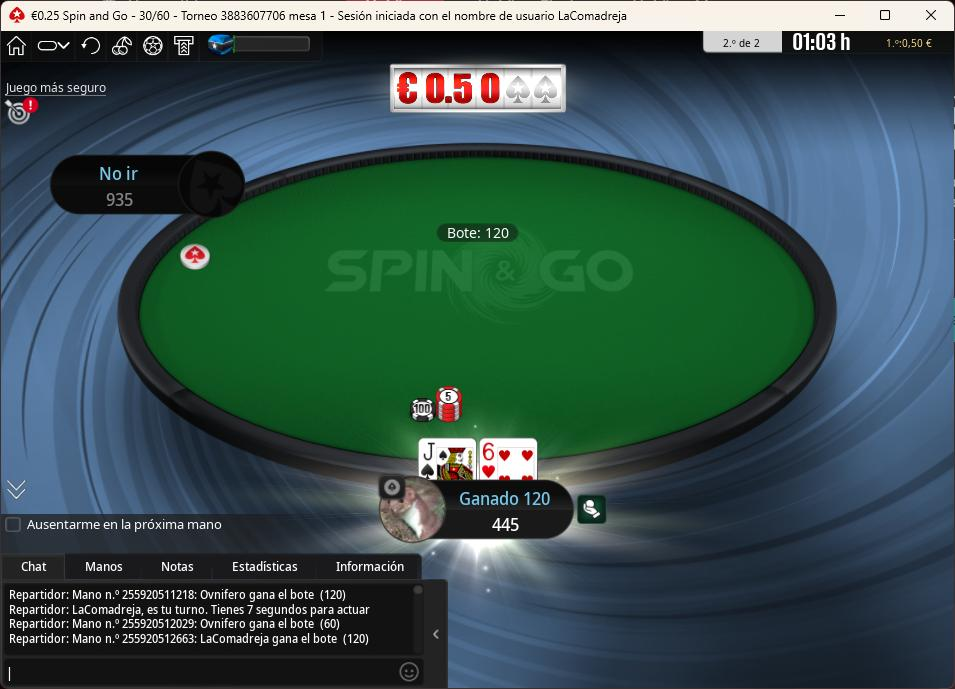Dealer: (180, 242, 214, 273)
Player: (48, 150, 245, 214)
PlayerChips: (487, 516, 524, 534)
Pot: (438, 217, 520, 244)
PrincipalBet: (406, 385, 472, 427)
PrincipalCards: (417, 437, 543, 488)
PrincipalCards1: (417, 437, 478, 477)
PrincipalCards2: (478, 436, 543, 483)
PrincipalPlayer: (372, 470, 570, 540)
SmallBigBlind: (130, 3, 181, 24)
